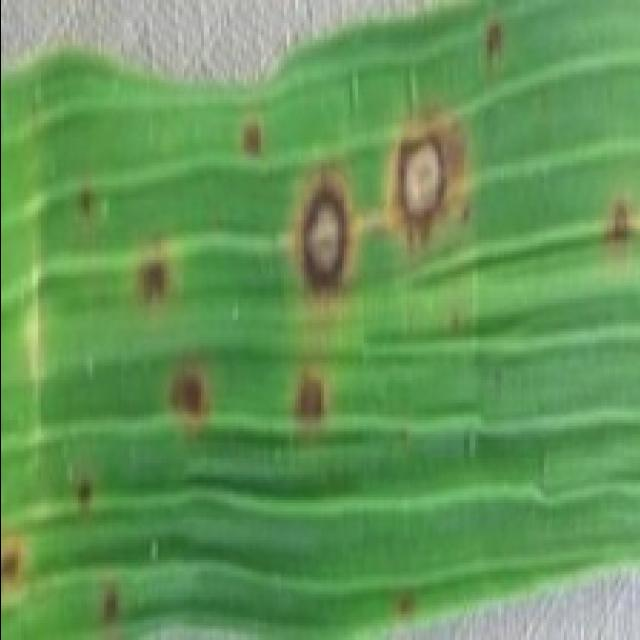Unhealthy: (384, 112, 472, 248), (290, 166, 362, 301), (165, 360, 212, 434), (291, 363, 334, 434), (133, 242, 176, 312), (0, 536, 30, 606), (96, 579, 120, 634), (610, 199, 634, 249), (238, 119, 264, 160), (387, 589, 417, 624), (485, 23, 503, 61), (76, 186, 96, 218), (75, 480, 95, 509)
